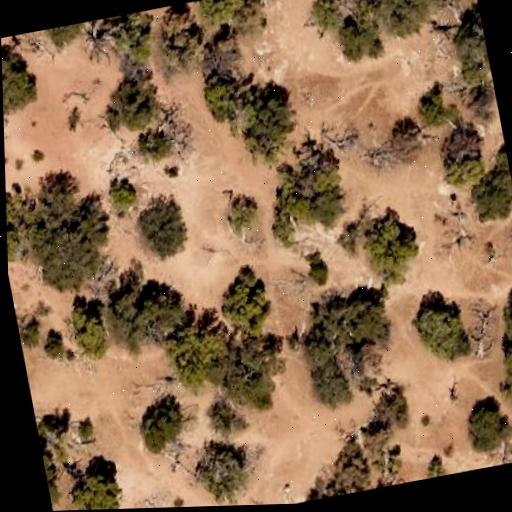tree-top: (296, 278, 399, 363), (261, 142, 354, 235), (284, 430, 402, 503), (17, 212, 115, 295), (228, 76, 307, 173), (217, 323, 299, 411), (350, 203, 429, 288), (359, 114, 442, 188), (157, 324, 233, 400), (294, 320, 354, 414), (404, 292, 476, 370), (120, 276, 196, 344), (209, 265, 277, 336), (188, 441, 256, 507), (144, 17, 211, 81), (97, 77, 164, 141), (23, 168, 90, 231), (134, 194, 192, 265), (129, 394, 196, 455), (57, 296, 117, 360), (448, 4, 493, 88), (62, 456, 128, 511), (1, 43, 45, 117), (433, 140, 490, 196), (457, 393, 512, 451), (357, 382, 416, 433), (372, 0, 453, 37), (196, 68, 249, 122), (334, 13, 386, 64), (106, 9, 156, 61), (466, 170, 512, 224), (34, 406, 80, 453), (412, 87, 458, 132), (202, 399, 250, 441), (222, 191, 267, 235), (132, 121, 179, 163), (460, 82, 500, 128), (193, 0, 253, 30), (34, 20, 94, 50), (302, 0, 348, 36), (5, 181, 30, 243), (103, 175, 142, 214), (328, 220, 363, 257), (493, 287, 512, 353), (301, 256, 335, 290), (496, 343, 512, 414), (37, 329, 70, 362), (16, 315, 45, 350), (41, 445, 61, 493), (267, 217, 297, 248), (6, 217, 25, 261), (491, 141, 510, 176), (503, 430, 512, 462)
